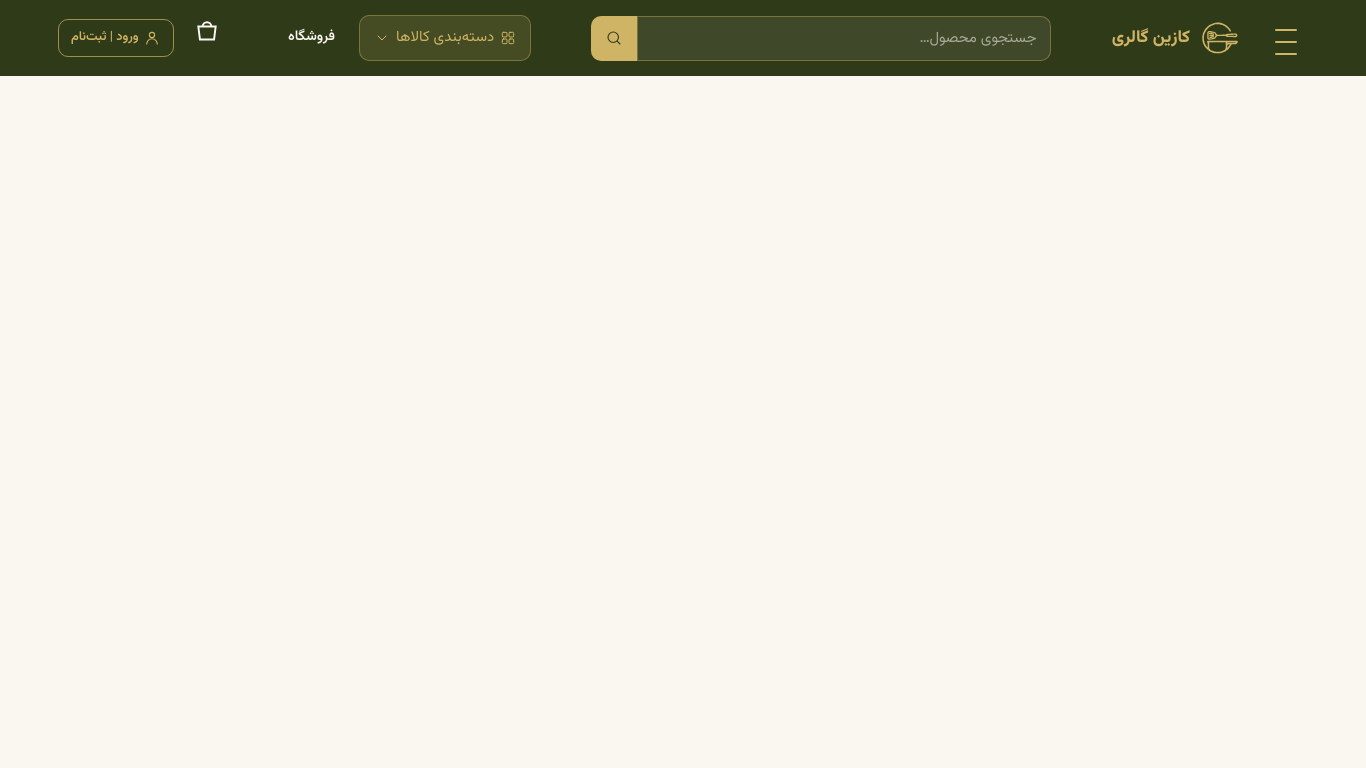
Test: computed contrast on the cart surfaces (item 2) › keeps the mini-cart drawer legible (the ivory-on-white bug)
Click the button with class "cart-link": (207, 38) [188,13,226,63]
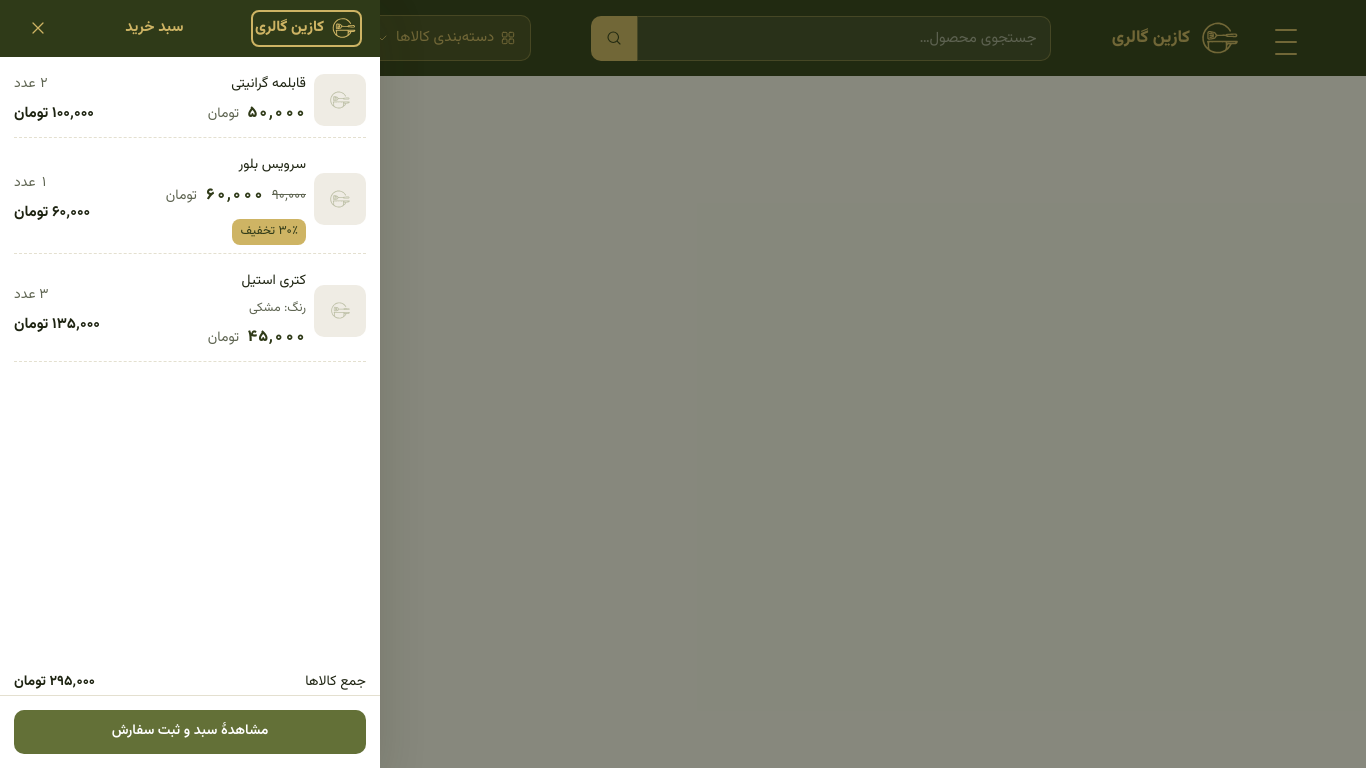
expect the dialog with class "minicart" is shown: met
expect the number of list items is 3: met, box [14,70,366,138]; [14,152,366,254]; [14,268,366,362]
